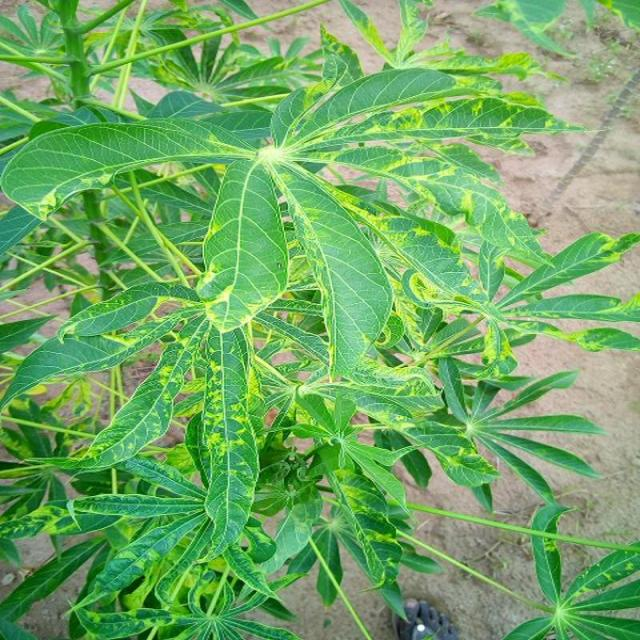cassava leaf: (0, 1, 638, 638), (197, 154, 289, 332)
